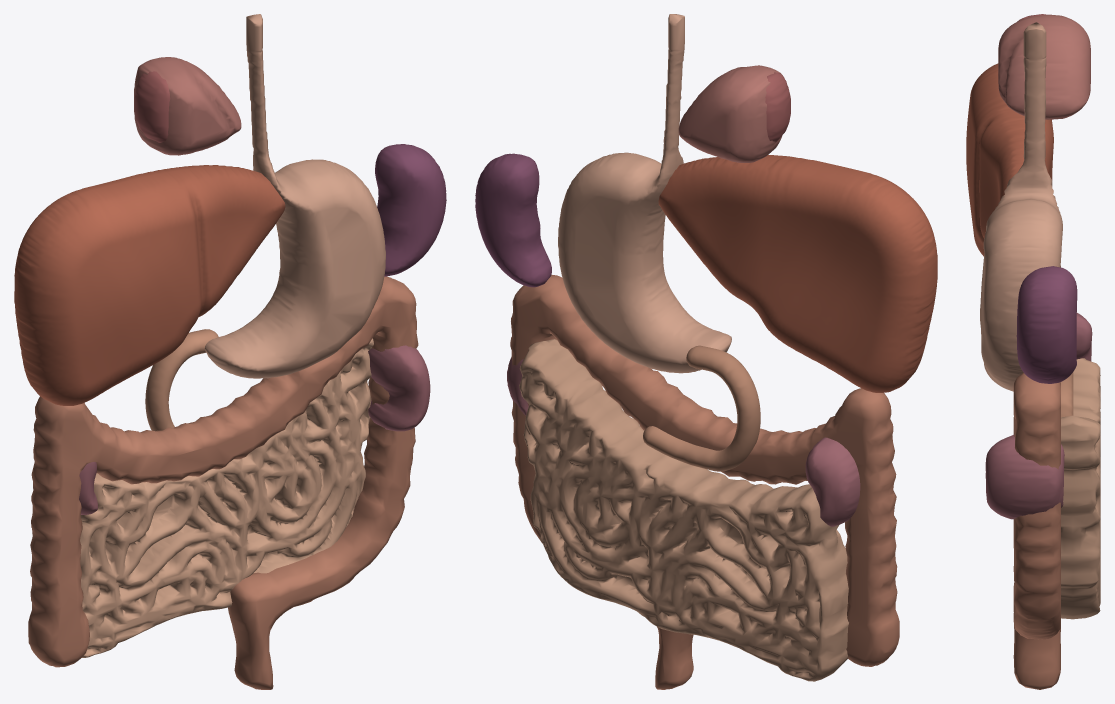
Rendered from organs-healthy.glb.
The picture shows the model from 3 angles, left to right: view 1: azimuth 30°, elevation 25°; view 2: azimuth 150°, elevation 25°; view 3: azimuth 270°, elevation 25°; orthographic projection. The views are drawn at different scales.
Parts seen in each view (by area): view 1: colon, liver, bowel, stomach, spleen, heart, kidney-l, duodenum, heart-ra, kidney-r; view 2: bowel, liver, colon, stomach, spleen, heart, duodenum, kidney-r, heart-ra; view 3: stomach, colon, bowel, liver, heart, spleen, kidney-l, kidney-r, duodenum.
Part boxes in pixels (x1,y1,x2,y2): colon: [28, 276, 418, 689]; liver: [14, 165, 285, 405]; bowel: [80, 338, 373, 657]; stomach: [204, 14, 385, 378]; spleen: [375, 144, 446, 276]; heart: [134, 57, 241, 155]; kidney-l: [368, 345, 430, 431]; duodenum: [145, 329, 218, 431]; heart-ra: [134, 71, 170, 142]; kidney-r: [79, 462, 97, 514]; bowel: [519, 339, 848, 681]; liver: [658, 155, 937, 392]; colon: [510, 274, 899, 689]; stomach: [558, 14, 731, 373]; spleen: [475, 153, 551, 287]; heart: [678, 65, 782, 162]; duodenum: [643, 345, 760, 471]; kidney-r: [805, 437, 860, 526]; heart-ra: [765, 72, 790, 142]; stomach: [980, 22, 1062, 391]; colon: [1013, 266, 1060, 689]; bowel: [1061, 358, 1100, 619]; liver: [966, 63, 1053, 256]; heart: [998, 14, 1090, 119]; spleen: [1016, 266, 1077, 383]; kidney-l: [985, 434, 1064, 519]; kidney-r: [1076, 313, 1092, 361]; duodenum: [1060, 372, 1073, 417].
Size of the model in its own units: 2.46 by 3.62 by 0.6709.
